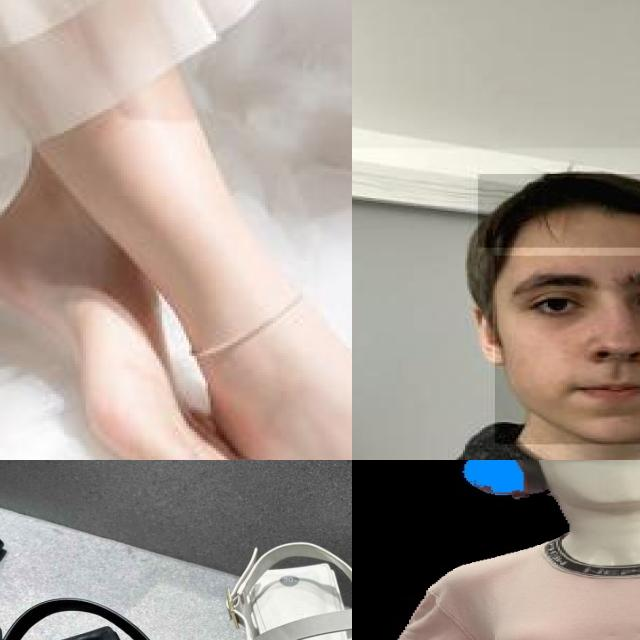Barefoots: (0, 234, 251, 460)
Ear-protection: (423, 460, 640, 495)
No_Ear-Protection: (462, 294, 513, 372)
No_Glasses: (514, 251, 640, 340)
Sandals: (0, 577, 352, 640), (205, 503, 352, 640)
face_nomask: (494, 255, 640, 444)
head_nohelmet: (478, 174, 640, 247)
person: (352, 148, 640, 460)
